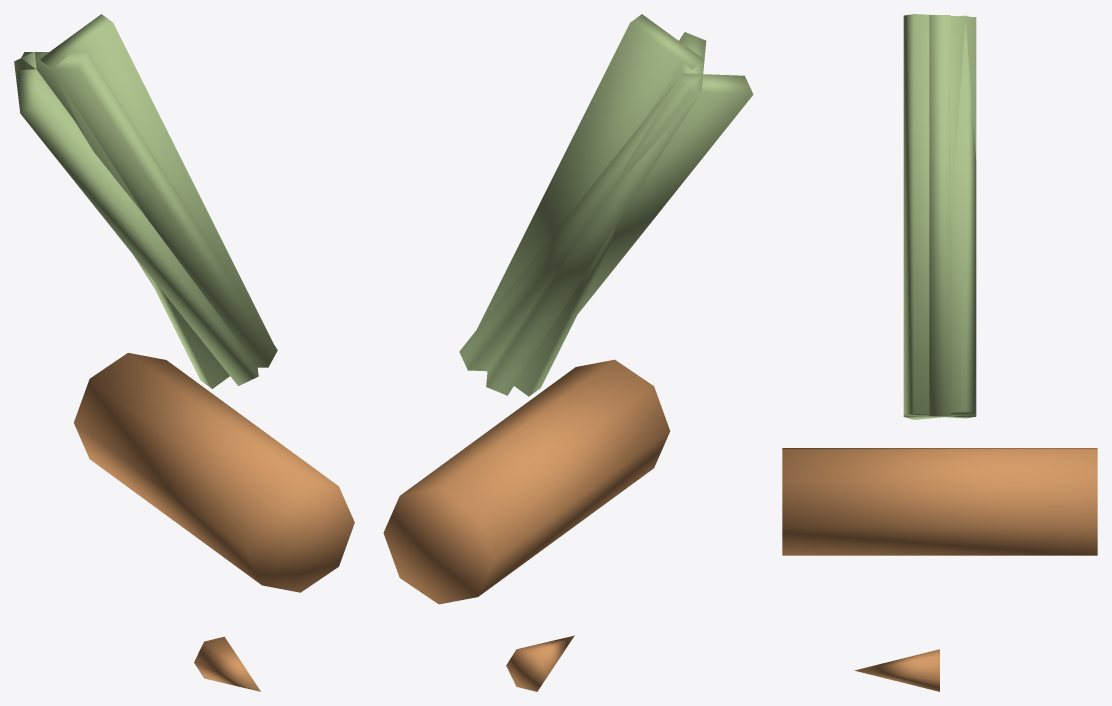
The model's file is plant_carrot_mature.glb.
The picture shows the model from 3 angles, left to right: view 1: azimuth 30°, elevation 25°; view 2: azimuth 150°, elevation 25°; view 3: azimuth 270°, elevation 25°; orthographic projection. The views are drawn at different scales.
Visible parts, largest first — view 1: root, leaf1, leaf2, leaf0, tip; view 2: root, leaf2, leaf0, leaf1, tip; view 3: root, leaf1, leaf0, leaf2, tip.
Boxes of the visible parts, x1,y1,x2,y2 form: root: (74, 353, 354, 592); leaf1: (15, 52, 277, 367); leaf2: (14, 51, 258, 385); leaf0: (40, 14, 272, 388); tip: (194, 636, 260, 691); root: (383, 359, 670, 604); leaf2: (459, 73, 753, 371); leaf0: (477, 14, 704, 396); leaf1: (486, 32, 706, 395); tip: (506, 635, 574, 691); root: (782, 448, 1097, 555); leaf1: (903, 14, 976, 418); leaf0: (929, 15, 950, 416); leaf2: (903, 15, 976, 419); tip: (854, 649, 939, 691).
Size of the model in its own units: 0.1932 by 0.4811 by 0.22.
